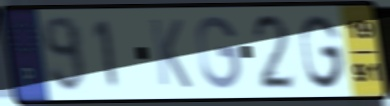1: (91, 18, 122, 90)
2: (252, 12, 298, 92)
9: (41, 13, 88, 96)
G: (298, 12, 348, 91), (194, 13, 243, 92)
K: (147, 16, 194, 91)
